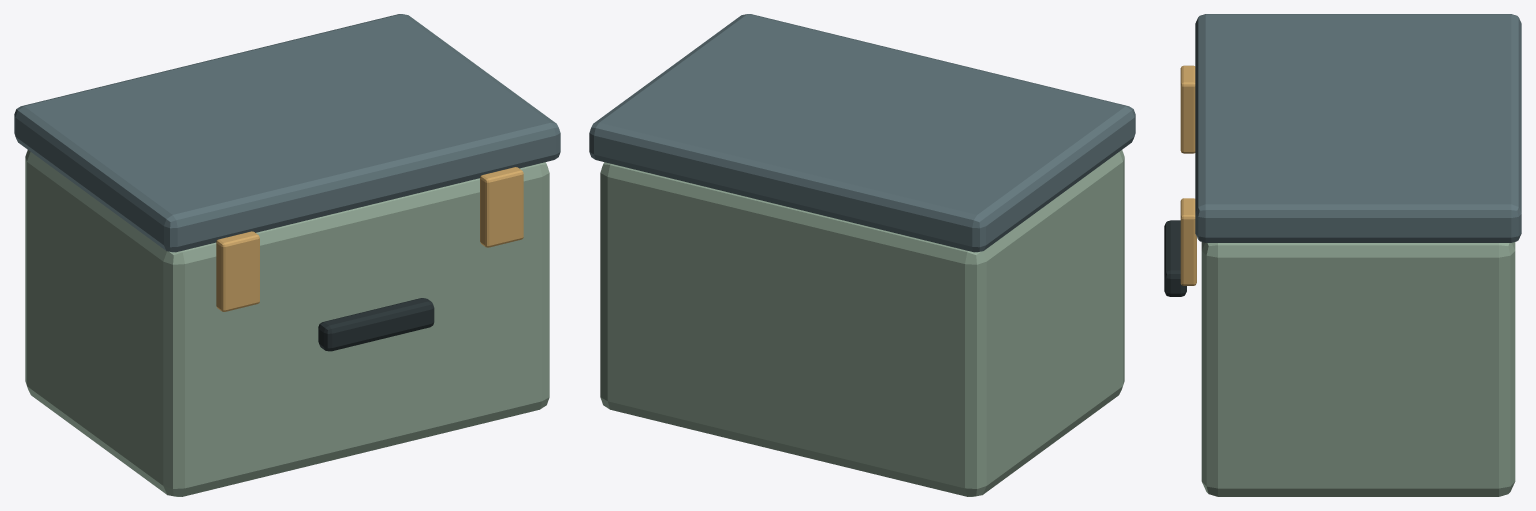
Rendered from crate.glb.
The picture shows the model from 3 angles, left to right: view 1: azimuth 30°, elevation 25°; view 2: azimuth 150°, elevation 25°; view 3: azimuth 270°, elevation 25°; orthographic projection. The views are drawn at different scales.
Parts seen in each view (by area): view 1: Salvage container, Container lid, Carry handle, Clasp, Clasp.001; view 2: Salvage container, Container lid; view 3: Salvage container, Container lid, Clasp.001, Clasp, Carry handle.
Part boxes in pixels (x1,y1,x2,y2): Salvage container: [25, 150, 549, 496]; Container lid: [14, 14, 560, 252]; Carry handle: [318, 298, 434, 351]; Clasp: [216, 231, 259, 311]; Clasp.001: [480, 167, 523, 247]; Salvage container: [600, 150, 1124, 496]; Container lid: [589, 14, 1135, 252]; Salvage container: [1201, 242, 1515, 496]; Container lid: [1195, 14, 1521, 242]; Clasp.001: [1180, 198, 1196, 285]; Clasp: [1180, 65, 1195, 153]; Carry handle: [1164, 220, 1186, 296].
Bounding box in the file's own units: 0.72 × 0.5025 × 0.5475.
